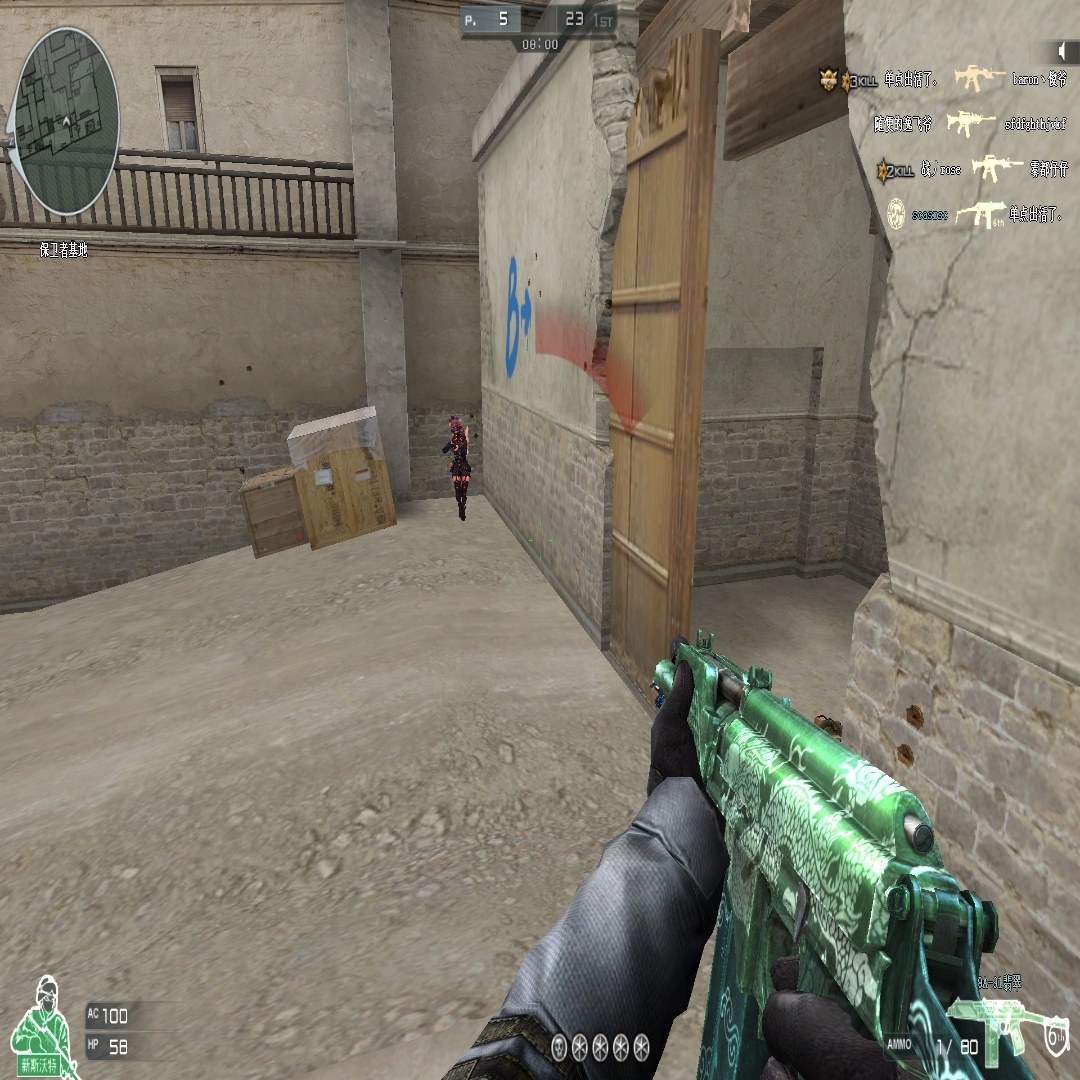head: (449, 417, 462, 436)
p: (443, 412, 472, 518)
